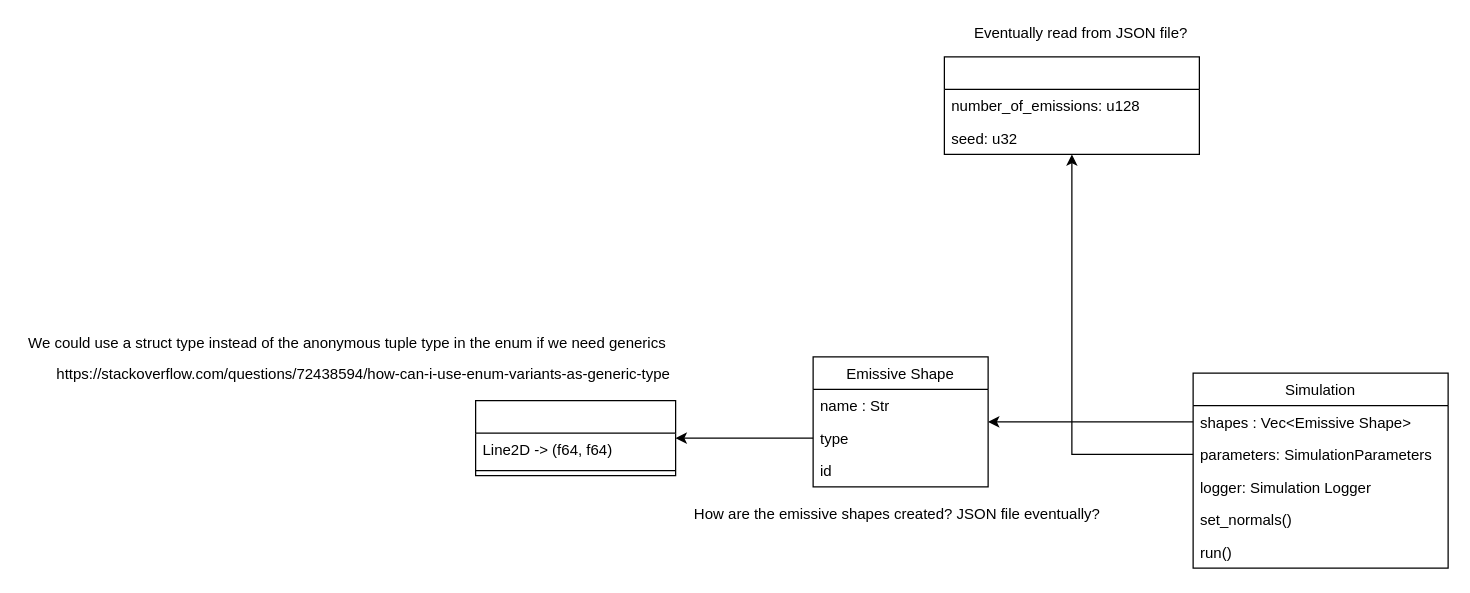
This 1470x593 diagram has some shape labels left out. The shapes that lost their labels are listed below. From the top down, each one's box as (x1, y1, x2, y2) in pixels, then its label:
(943, 56, 1199, 154): Simulation Parameters
(474, 399, 676, 476): ShapeType
